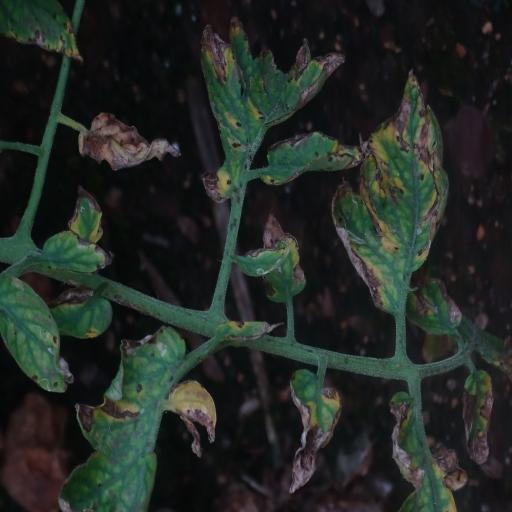Early Blight: (330, 67, 452, 314), (190, 16, 346, 204), (71, 324, 219, 512), (386, 391, 469, 512), (0, 274, 74, 398), (285, 366, 343, 496), (77, 110, 184, 175), (262, 129, 370, 189), (1, 0, 86, 64), (457, 368, 496, 468)
